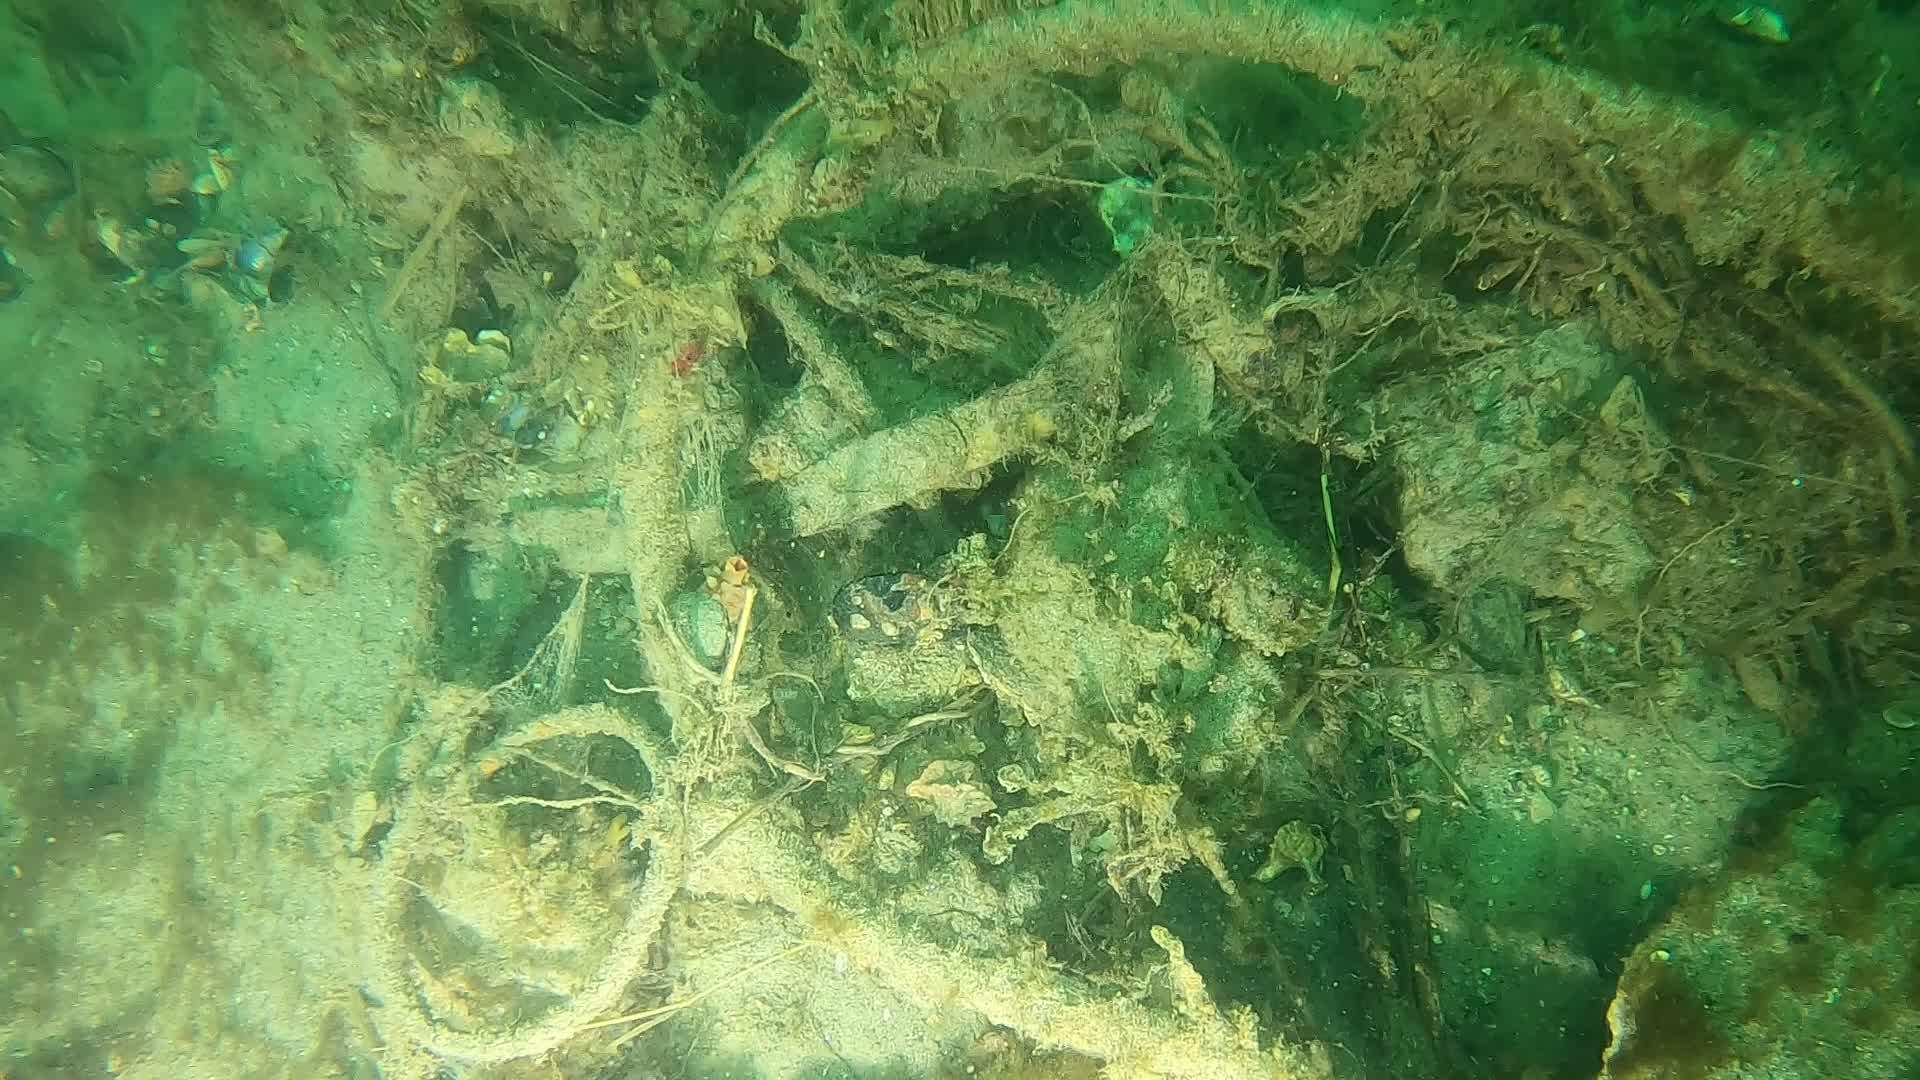rope: (616, 0, 1920, 1080), (367, 699, 684, 1065)
